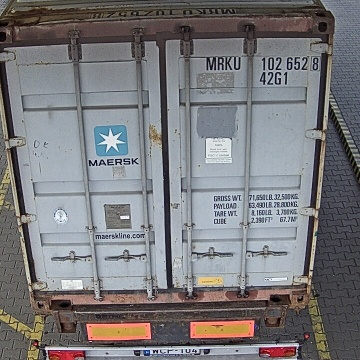serial_id: (206, 56, 320, 70)
